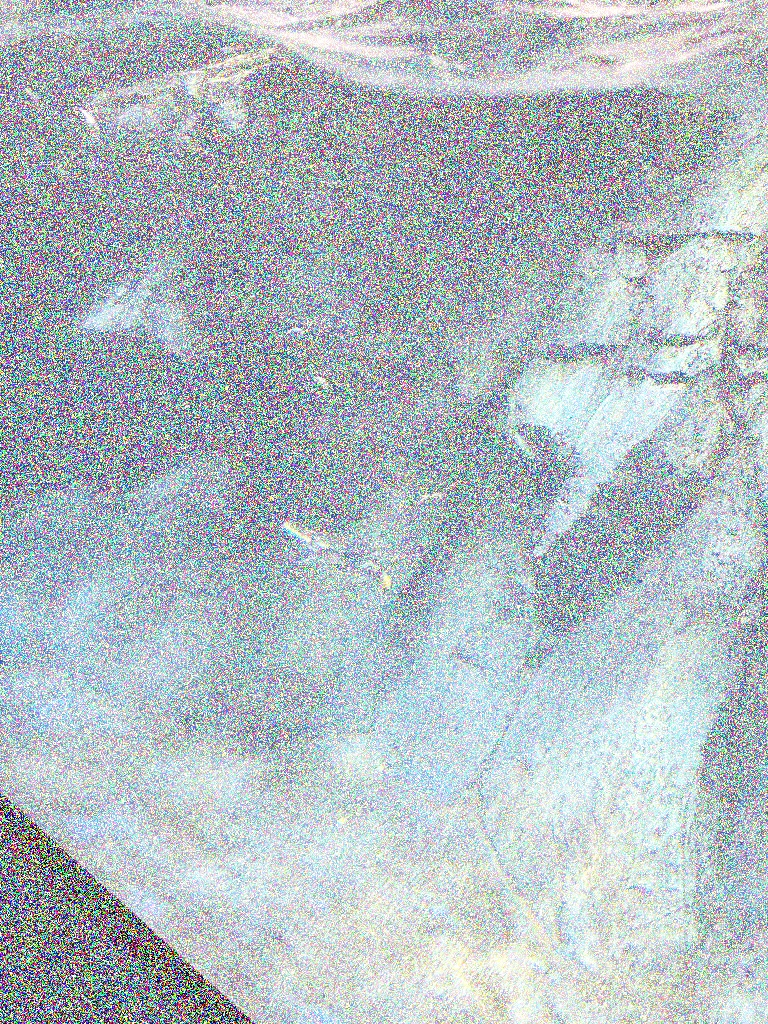puffin: (80, 49, 276, 155), (62, 238, 210, 366), (278, 518, 392, 594)
